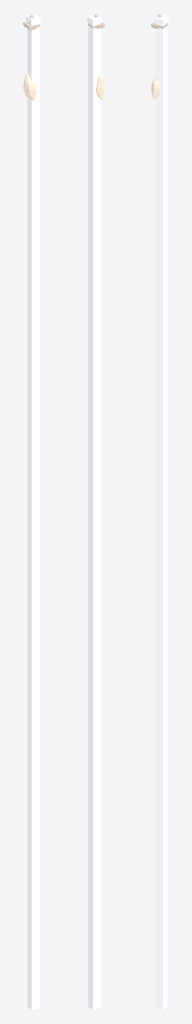
File: level.gltf
3 views of the same model, side by side, from view 1: azimuth 30°, elevation 25°; view 2: azimuth 210°, elevation 25°; view 3: azimuth 330°, elevation 25° (orthographic).
Visible parts, largest first — view 1: P_Modul_26_Support_Column, P_Modul_26_Support_Column_Shaft, P_Modul_26_Sack; view 2: P_Modul_26_Support_Column, P_Modul_26_Support_Column_Shaft, P_Modul_26_Sack; view 3: P_Modul_26_Support_Column, P_Modul_26_Support_Column_Shaft, P_Modul_26_Sack.
Part boxes in pixels (box(x1,y1,x2,y2)): P_Modul_26_Support_Column: box(26, 14, 40, 1009); P_Modul_26_Support_Column_Shaft: box(27, 30, 39, 1009); P_Modul_26_Sack: box(23, 73, 36, 100); P_Modul_26_Support_Column: box(87, 14, 101, 1009); P_Modul_26_Support_Column_Shaft: box(88, 26, 100, 1008); P_Modul_26_Sack: box(96, 73, 104, 99); P_Modul_26_Support_Column: box(154, 14, 168, 1009); P_Modul_26_Support_Column_Shaft: box(155, 28, 167, 1009); P_Modul_26_Sack: box(151, 76, 159, 99).
Bounding box in the file's own units: 3.49 × 243 × 3.89.
